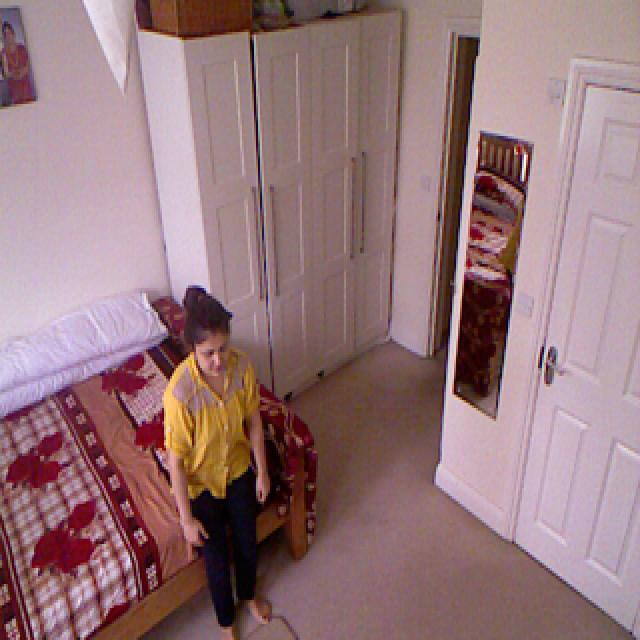standing: (160, 285, 274, 640)
